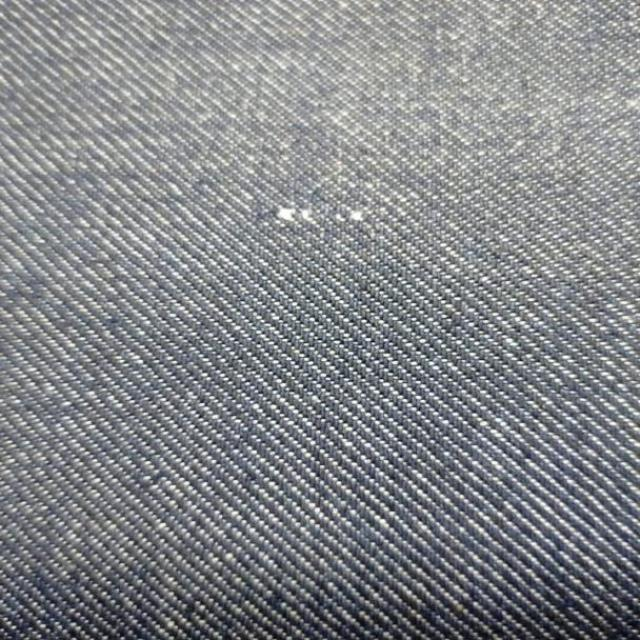Knot: (275, 206, 320, 223)
